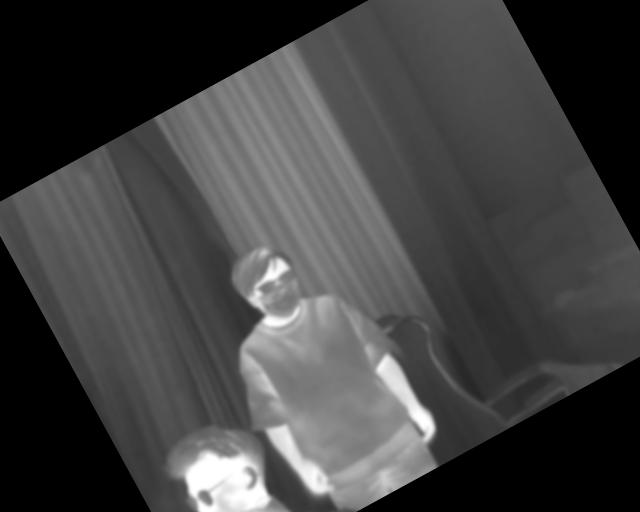face: (222, 234, 315, 333)
